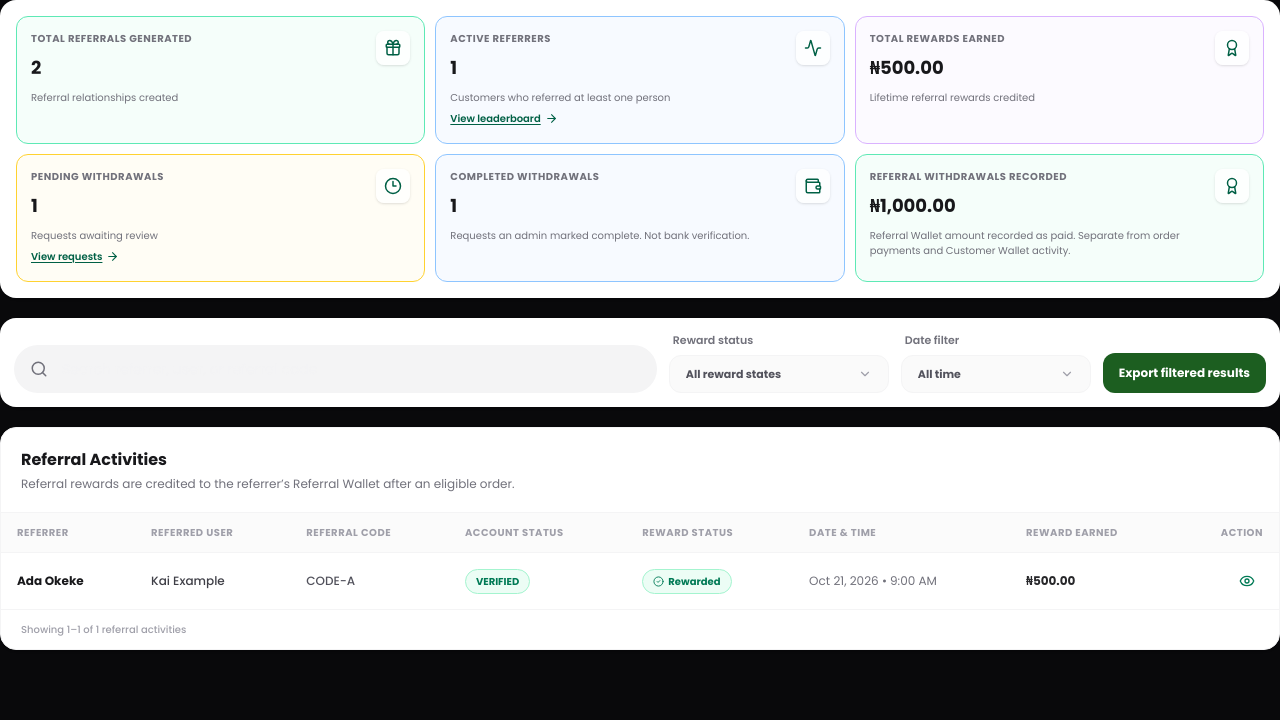
Test: Super Admin referral wallet activities › approves only after manual transfer confirmation and posts an idempotency key
Expected: the text "Kai Example" is shown, [135, 552, 290, 609]
Click the button with aria-label "View 1 pending referral withdrawals". click: point(97, 176)
box: [16, 154, 425, 282]
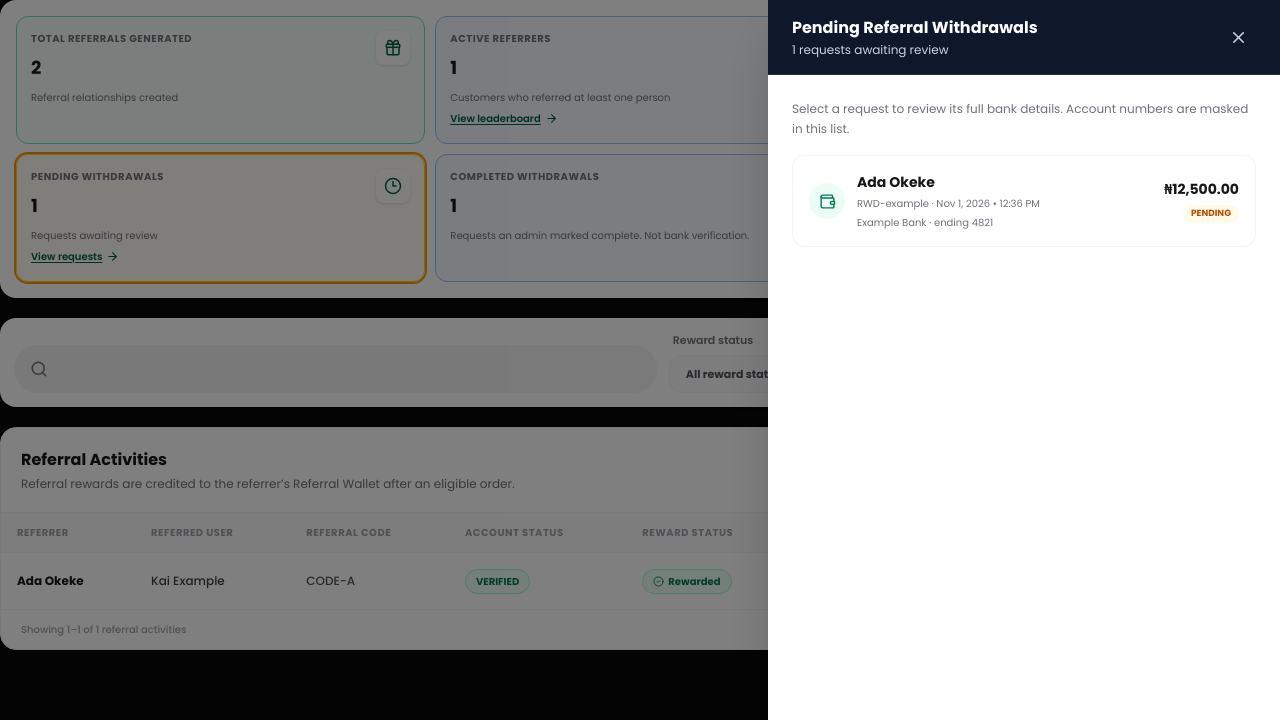
Click the button that starts with "Ada Okeke". click: point(1024, 201)
box: [792, 155, 1256, 247]
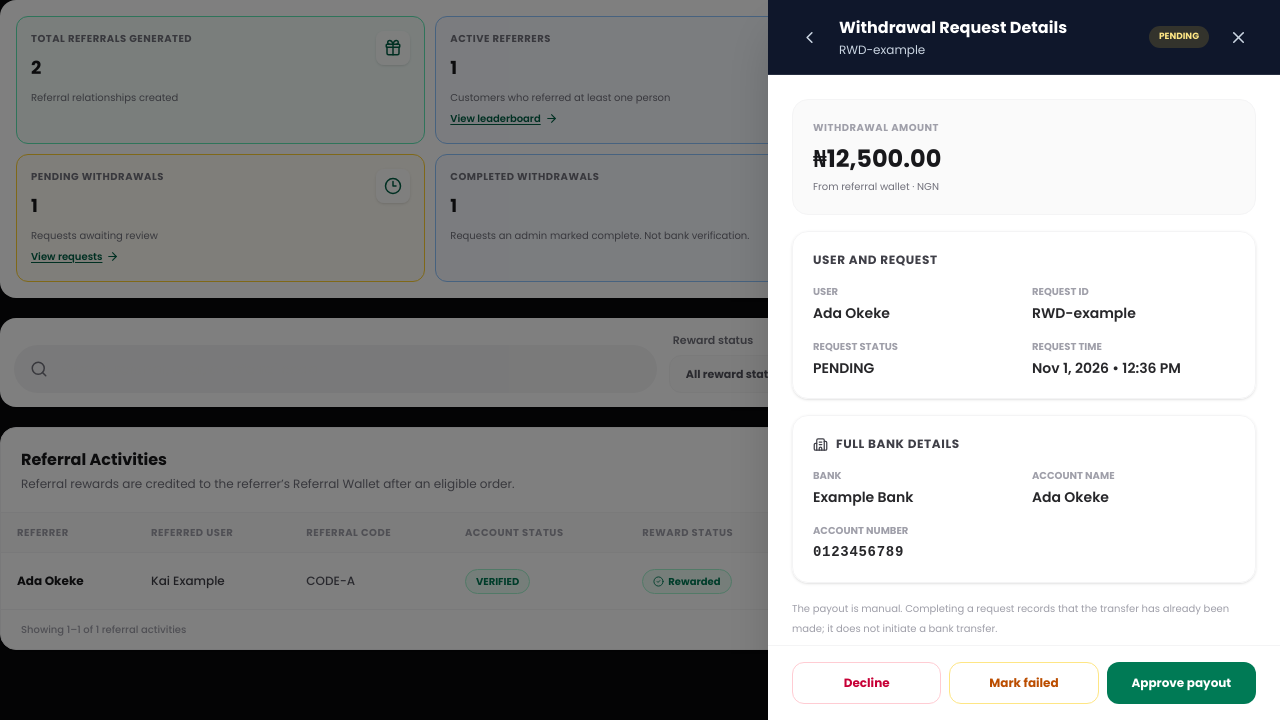
Expected: the text "0123456789" is shown, [813, 544, 904, 560]
Click the button "Approve payout". click: point(1181, 683)
box: [1107, 662, 1256, 704]
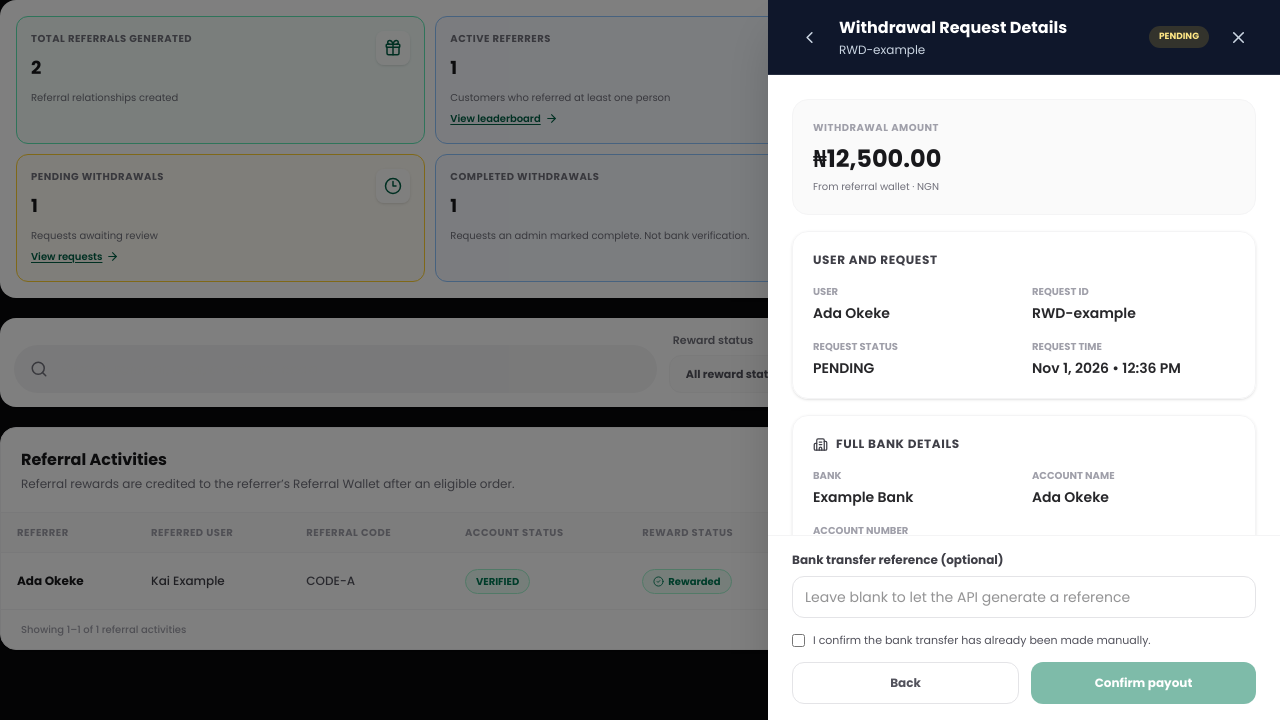
Expected: the field labelled "Bank transfer reference (optional)" is shown, [792, 576, 1256, 618]
Expected: the button "Confirm payout" is disabled, [1031, 662, 1256, 704]
Click the checkbox labelled "I confirm the bank transfer has already been made manually.". click: point(798, 640)
box: [792, 634, 805, 647]
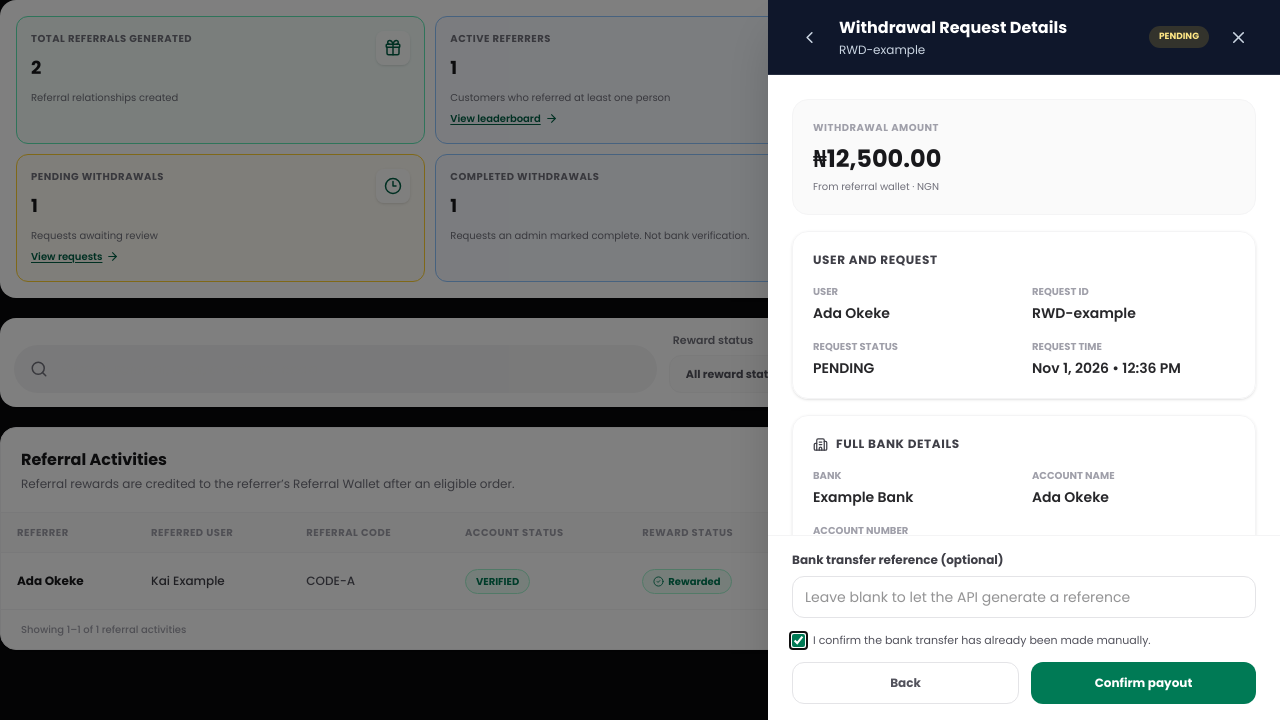
Click the button "Confirm payout". click: point(1144, 683)
box: [1031, 662, 1256, 704]
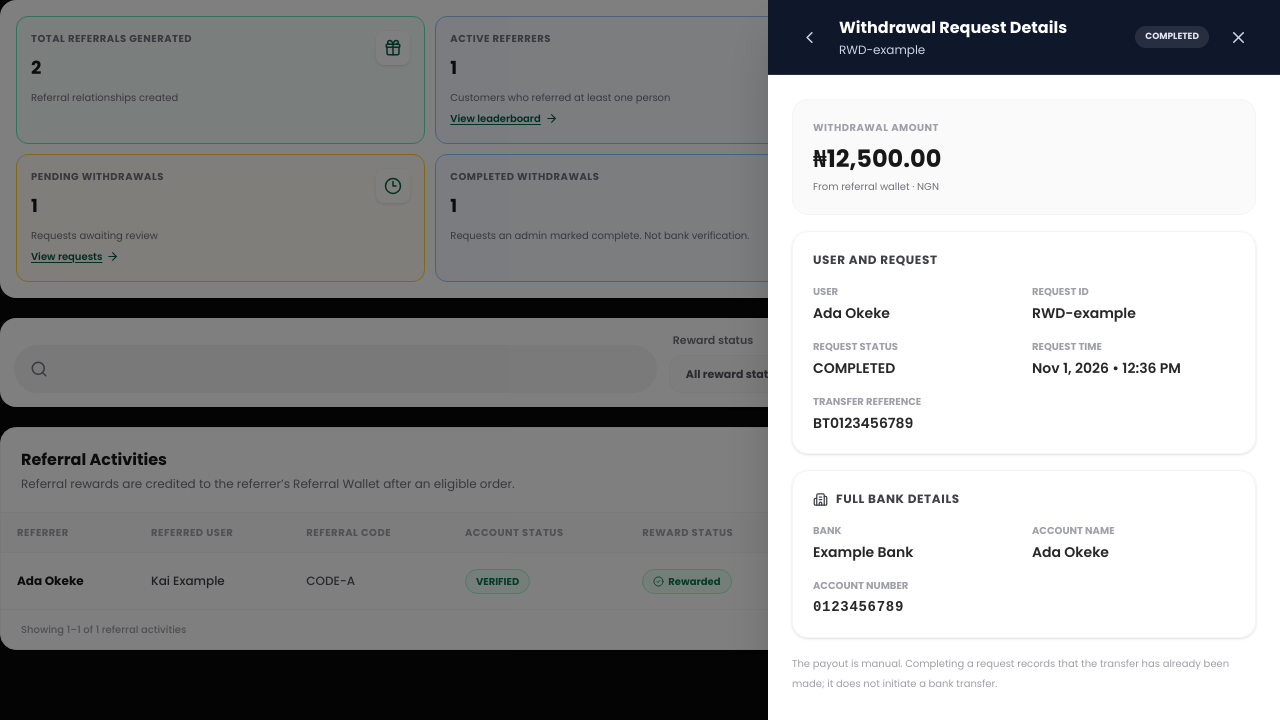
Expected: the text "COMPLETED" next to "Withdrawal Request Details" is shown, [1145, 30, 1199, 42]
